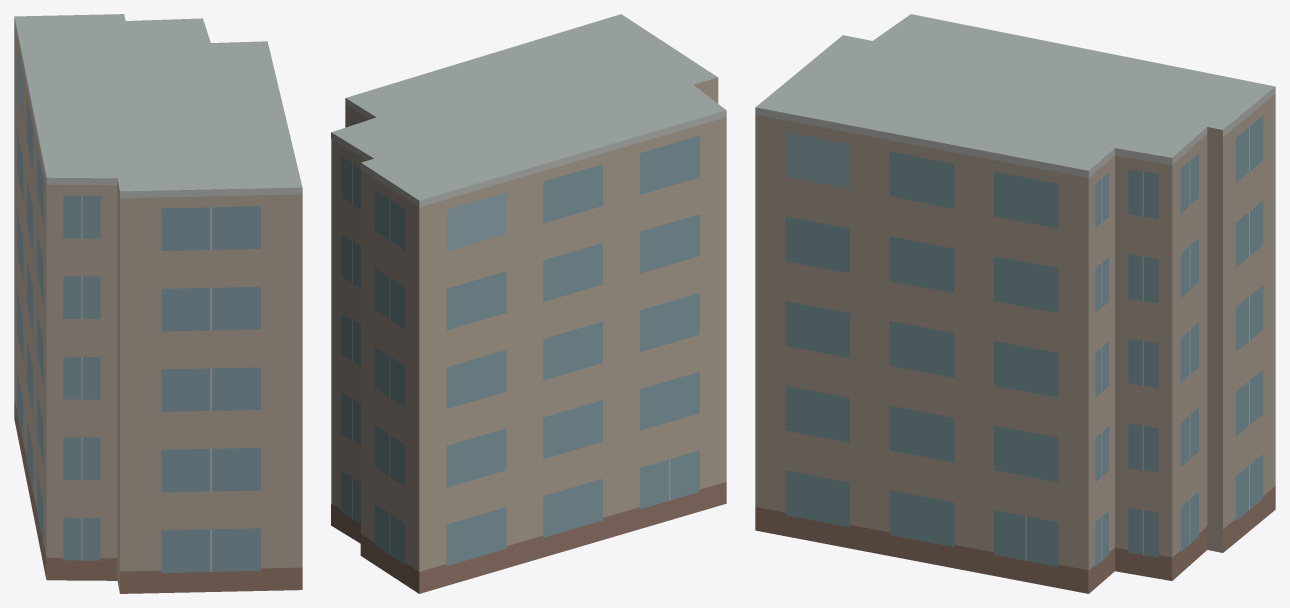
Rendered from survey-upis-32780273.glb.
The picture shows the model from 3 angles, left to right: view 1: azimuth 30°, elevation 25°; view 2: azimuth 150°, elevation 25°; view 3: azimuth 270°, elevation 25°; orthographic projection. The views are drawn at different scales.
Parts seen in each view (by area): view 1: survey-upis-32780273.tmp; view 2: survey-upis-32780273.tmp; view 3: survey-upis-32780273.tmp.
Boxes of the visible parts, box(x1,y1,x2,y2) form: survey-upis-32780273.tmp: box(14, 14, 302, 593); survey-upis-32780273.tmp: box(331, 14, 726, 593); survey-upis-32780273.tmp: box(755, 14, 1275, 593).
Size of the model in its own units: 11.37 by 14.3 by 15.94.
